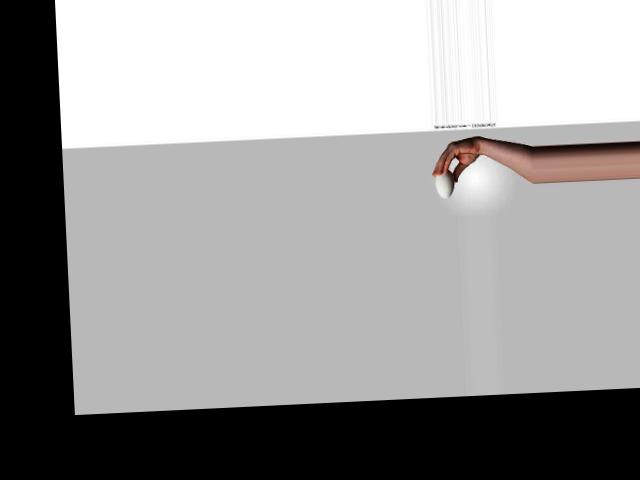egg: (434, 168, 455, 198)
